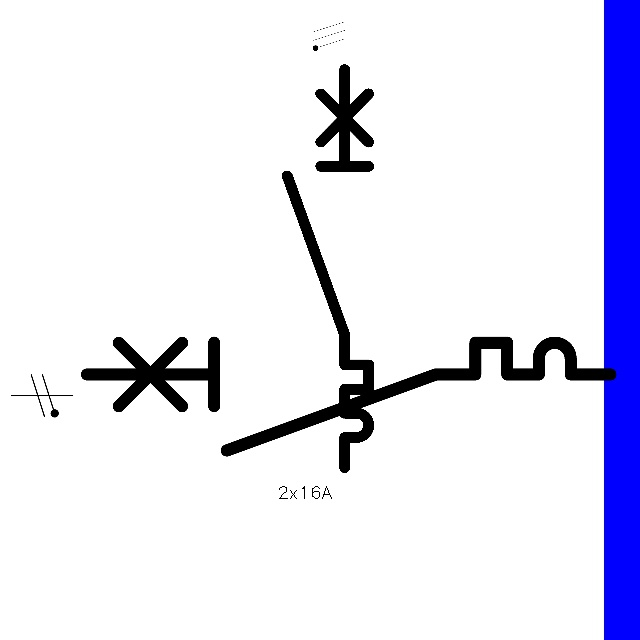interruptor_termomagnetico: (73, 329, 624, 464), (277, 59, 379, 477)
